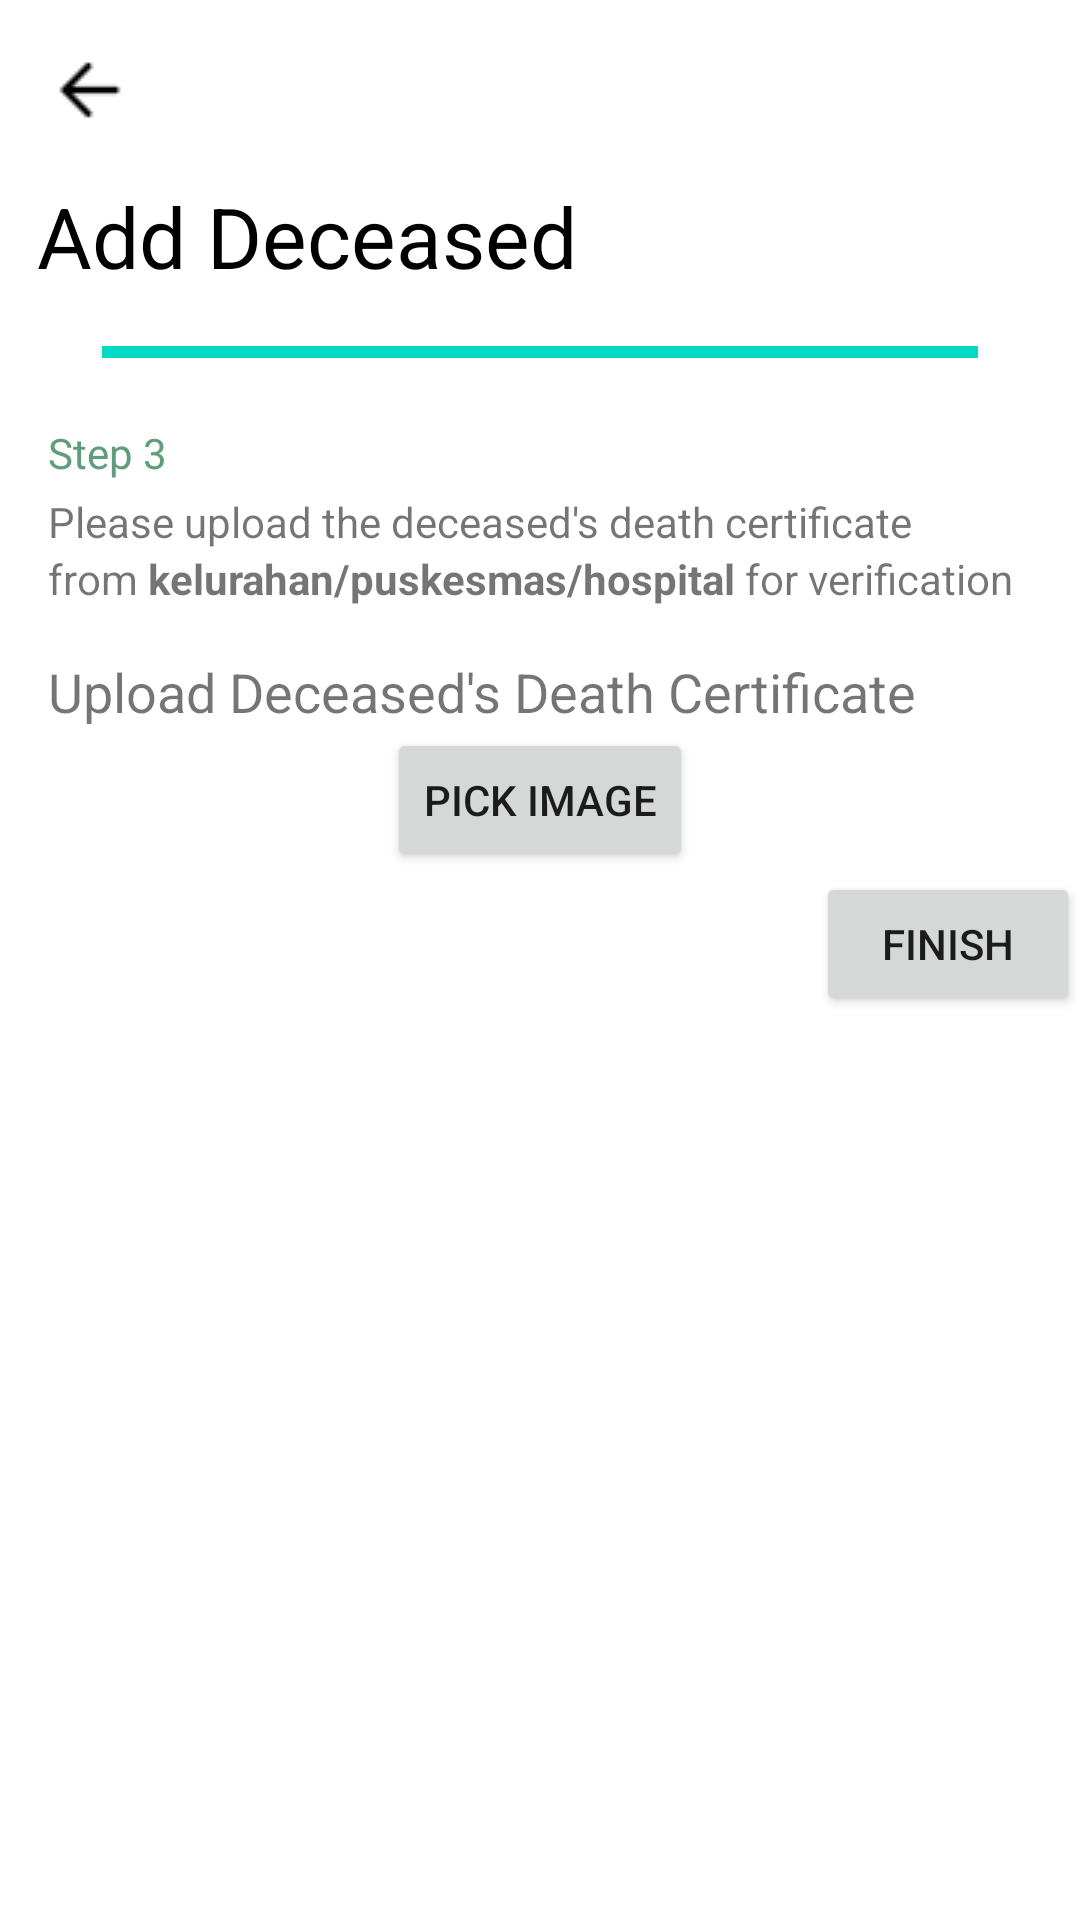

Screen size 1080*1920. Icon name, then its center in pixels as (x=x, y=y):
back: (x=90, y=90)
